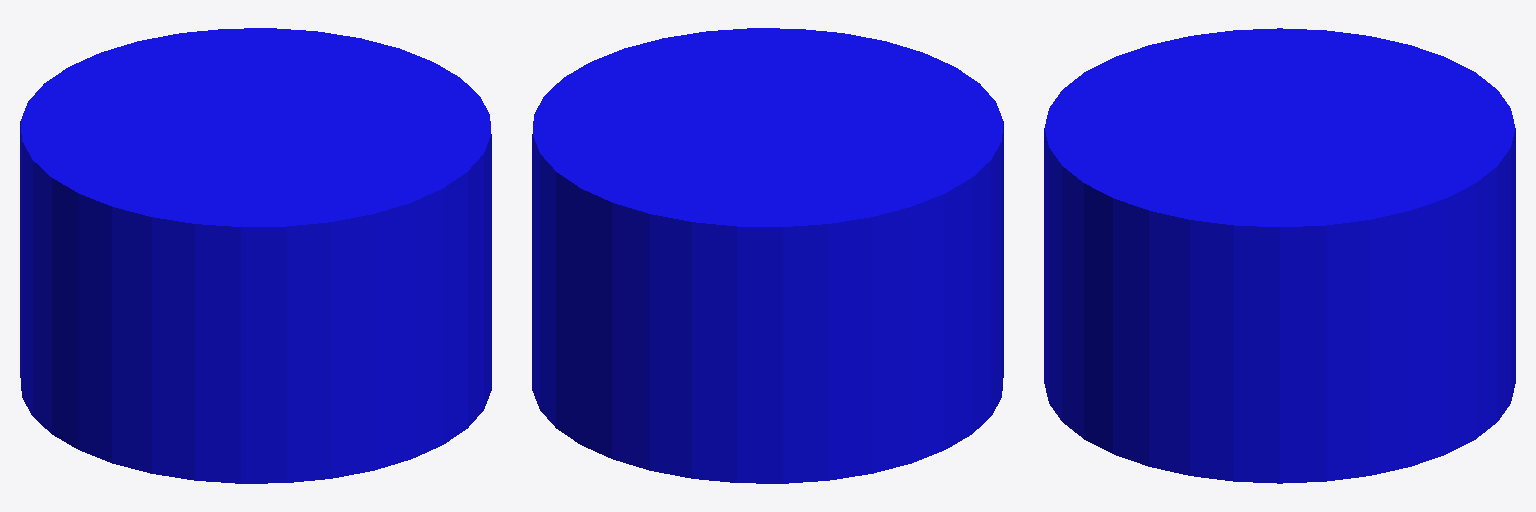
robot.urdf — test:
<?xml version="1.0"?>
<robot name="test">
    <!-- 机器人身体部分 -->
    <link name="base_link">
        <!-- 部件外观描述 -->
        <visual>
            <!-- 沿自己几何中心的偏移与旋转量 -->
            <origin xyz="0 0 0" rpy="0 0 0" />
            <!-- 几何形状 -->
            <geometry>
                <!-- 圆柱体，半径0.1m，高度 0.12m -->
                <cylinder length="0.12" radius="0.10" />
            </geometry>
            <!-- 材质子标签-蓝色 -->
            <material name="blue">
                <color rgba="0.1 0.1 1.0 0.5" />
            </material>
        </visual>
    </link>

    <!-- 机器人IMU部件 -->
    <link name="imu_link">
        <visual>
            <origin xyz="0 0 0" rpy="0 0 0" />
            <geometry>
                <box size="0.02 0.02 0.02" />
            </geometry>
        </visual>
        <material name="black">
            <color rgba="0 0 0 0.5" />
        </material>
    </link>

    <!-- 机器人关节 -->
    <joint name="imu_joint" type="fixed">
        <!-- 父部件 -->
        <parent link="base_link" />
        <!-- 子部件 -->
        <child link="imu_link" />
        <!-- 子部件相对父部件的平移和旋转 -->
        <origin xyz="0 0 0.03" rpy="0 0 0" />
    </joint>

</robot>

--- Render facts (derived) ---
Views: 3 orthographic renders of the robot side by side, from view 1: azimuth 30°, elevation 25°; view 2: azimuth 150°, elevation 25°; view 3: azimuth 270°, elevation 25°.
Robot: test — 2 links, 1 joints (1 fixed); root link base_link; default pose: all joints at 0.
Links seen in each view (by area): view 1: base_link; view 2: base_link; view 3: base_link.
Boxes of the visible links, <box> form: base_link: <box>20,28,491,483</box>; base_link: <box>532,28,1003,483</box>; base_link: <box>1044,28,1515,483</box>.
Bounding box of the posed robot: 0.2 × 0.2 × 0.12 m (x, y, z).
Geometry: primitives only (box / cylinder / sphere), no mesh files.
